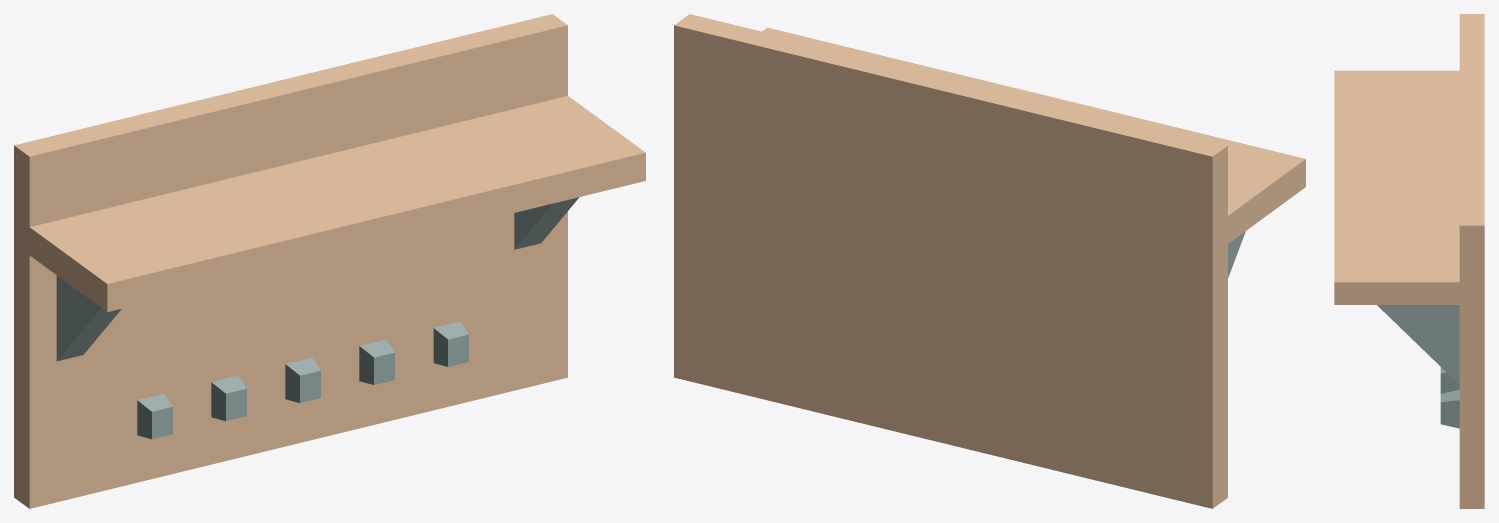
File: coatRack.glb
3 renders of one model, left to right at view 1: azimuth 30°, elevation 25°; view 2: azimuth 150°, elevation 25°; view 3: azimuth 270°, elevation 25°, orthographic. The views are drawn at different scales.
Parts seen in each view (by area): view 1: coatRack(Clone); view 2: coatRack(Clone); view 3: coatRack(Clone).
Part boxes in pixels (<box>): coatRack(Clone): <box>14,14,645,508</box>; coatRack(Clone): <box>674,14,1305,508</box>; coatRack(Clone): <box>1334,14,1484,508</box>.
Size of the model in its own units: 0.9094 by 0.5684 by 0.2728.
2 materials, 2 textured.
